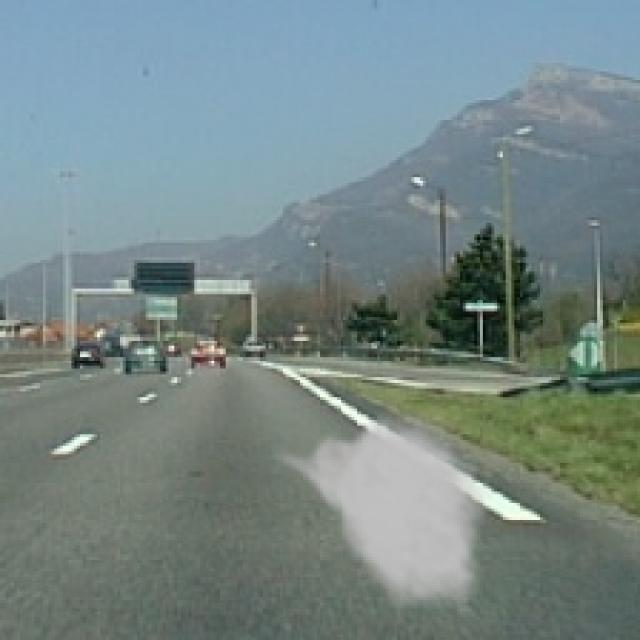smoke: (268, 409, 492, 620)
